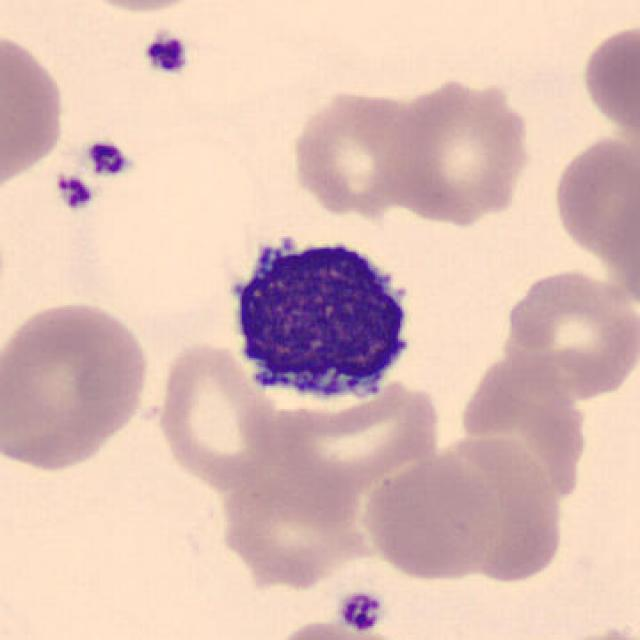Lymphocyte: (219, 222, 425, 413)
Platelets: (140, 29, 192, 80), (336, 589, 386, 635), (84, 136, 134, 180), (53, 173, 98, 215)
RBC: (0, 294, 155, 474), (377, 72, 535, 226), (215, 449, 366, 588), (151, 338, 283, 492), (436, 432, 565, 586), (502, 264, 636, 402), (359, 455, 501, 582), (286, 85, 422, 216), (464, 361, 595, 496), (548, 130, 638, 266), (0, 22, 69, 197), (578, 18, 638, 146), (262, 617, 406, 640), (325, 596, 391, 638), (59, 0, 217, 16)
